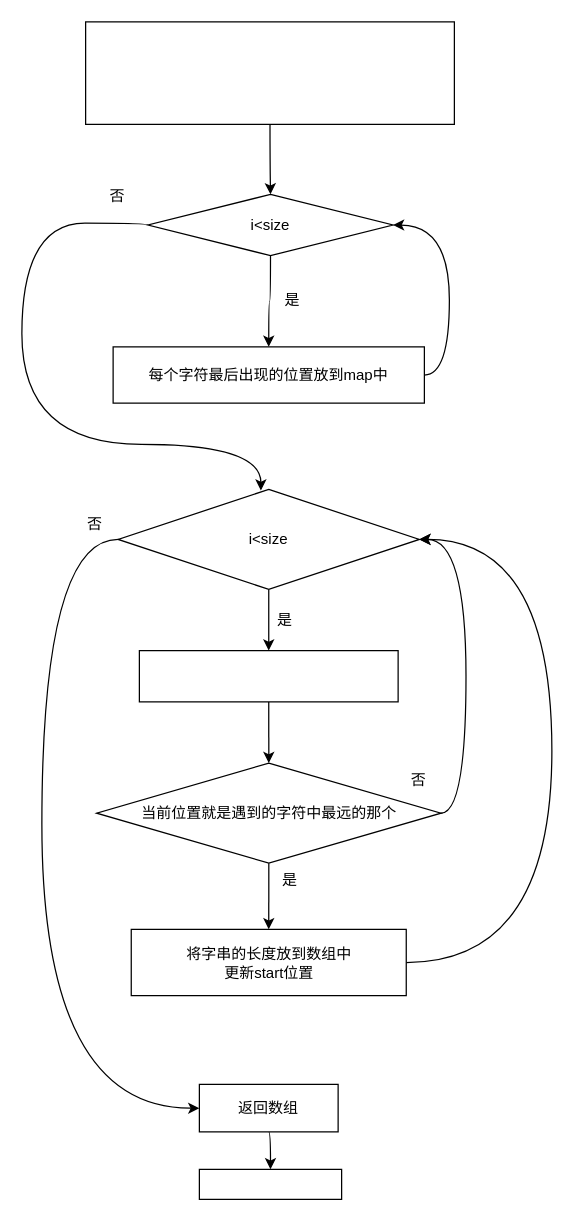
This 574x1221 diagram has some shape labels left out. Each missing label, with the centre of its shape:
"list:返回的结果数组 map:记录字符和最后出现的位置 start:起始位置 end:结束位置" goes at [269,72].
"更新遇到过的字符中最远的下标" goes at [268,675].
"结束" goes at [270,1183].
